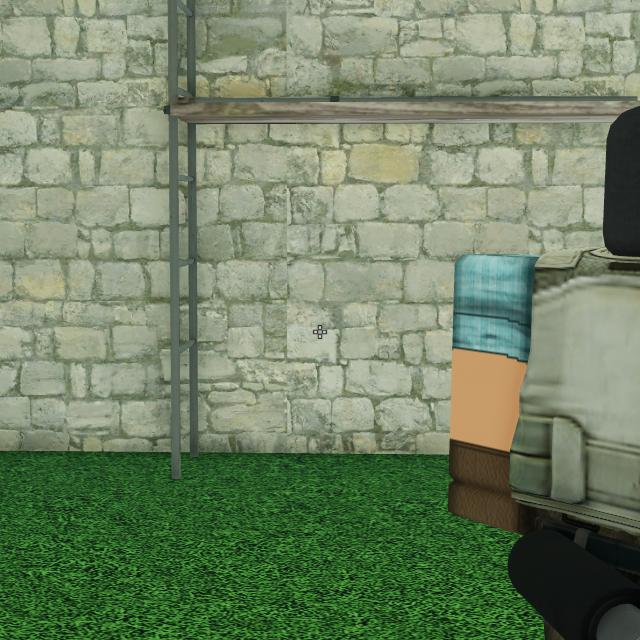Head: (602, 106, 640, 255)
Player: (448, 105, 640, 640)
